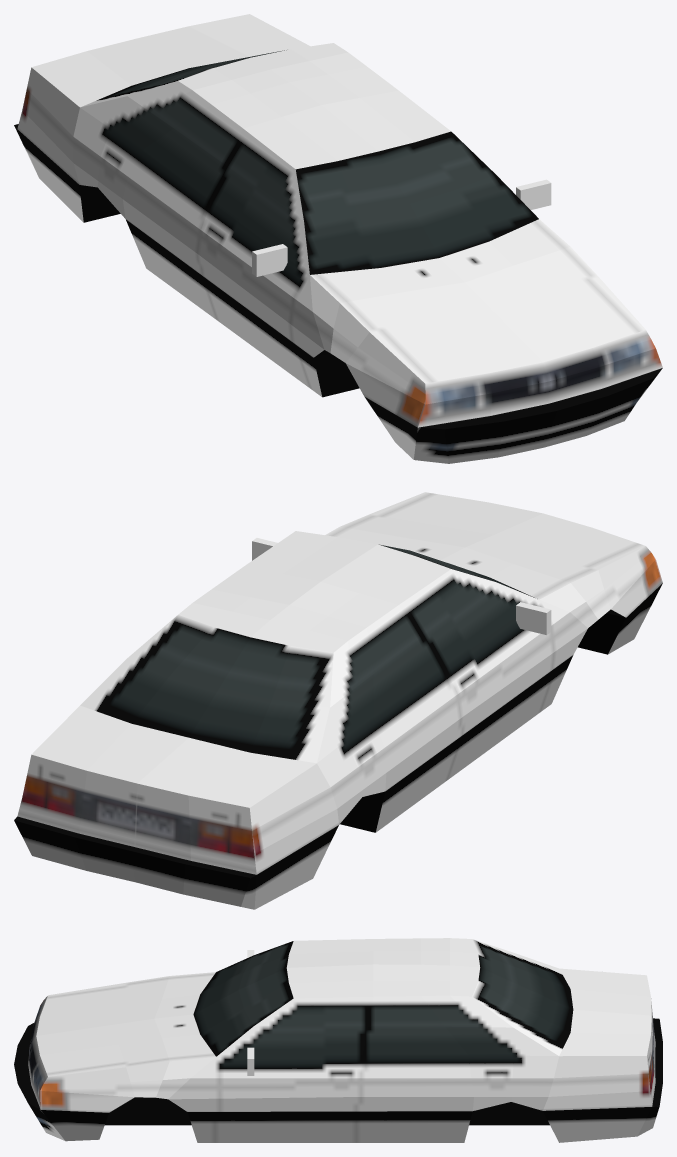
File: audi_saloon.obj
3 views of the same model, one above another, from view 1: azimuth 30°, elevation 25°; view 2: azimuth 150°, elevation 25°; view 3: azimuth 270°, elevation 25° (orthographic). The views are drawn at different scales.
Parts seen in each view (by area): view 1: audi_saloon; view 2: audi_saloon; view 3: audi_saloon.
Boxes of the visible parts, x1,y1,x2,y2 form: audi_saloon: (14,14,662,463); audi_saloon: (14,492,662,909); audi_saloon: (14,938,662,1142).
Size of the model in its own units: 1.91 by 1.11 by 4.8.
1 material, 1 textured.
